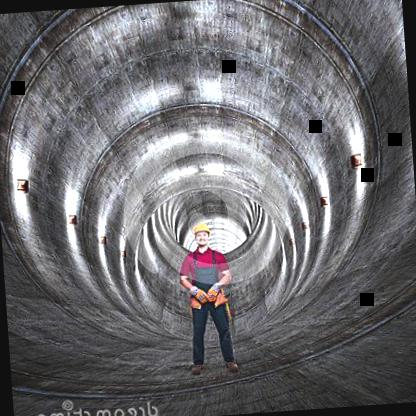helmet: (193, 221, 212, 250)
